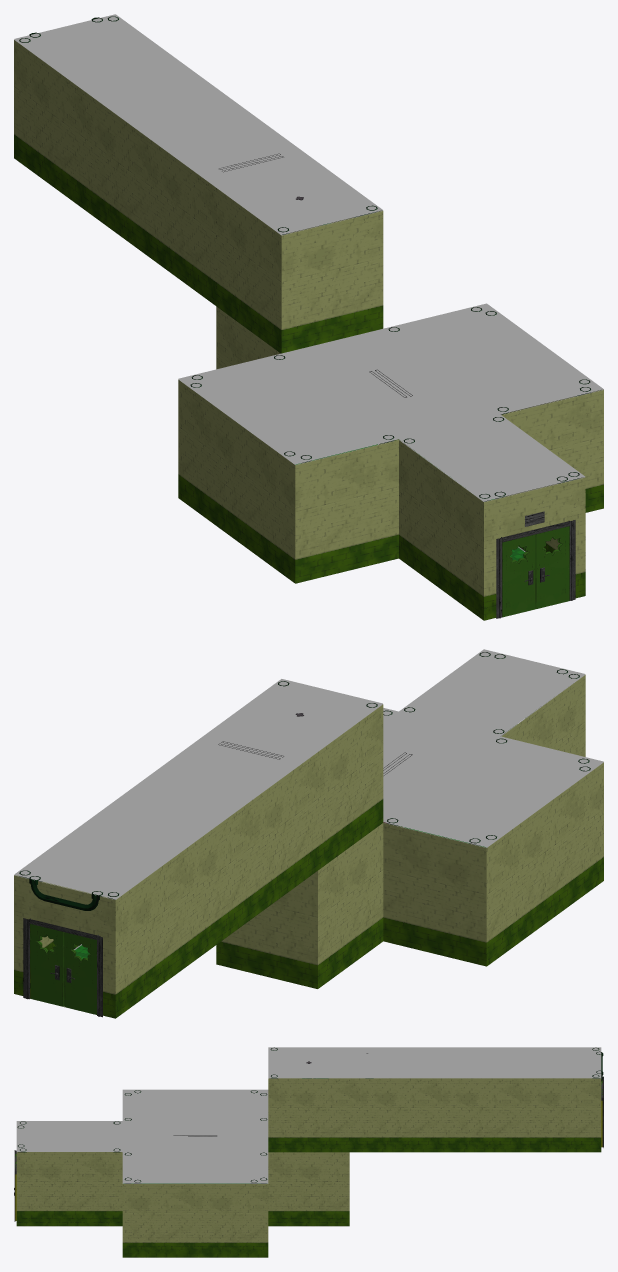
File: Level14_Tunnel2.fbx
3 views of the same model, one above another, from view 1: azimuth 30°, elevation 25°; view 2: azimuth 150°, elevation 25°; view 3: azimuth 270°, elevation 25° (orthographic). The views are drawn at different scales.
Visible parts, largest first — view 1: Wall, Roof, polySurface133, polySurface132, polySurface183, Border, Pipe; view 2: Wall, Roof, polySurface132, polySurface133, polySurface183, Pipe, Border; view 3: Wall, Roof, Pipe.
Boxes of the visible parts, <box> form: Wall: <box>14,40,603,620</box>; Roof: <box>14,14,603,501</box>; polySurface133: <box>502,534,535,617</box>; polySurface132: <box>536,526,569,608</box>; polySurface183: <box>496,520,575,618</box>; Border: <box>14,39,602,551</box>; Pipe: <box>19,16,590,501</box>; Wall: <box>14,674,603,1018</box>; Roof: <box>14,649,603,899</box>; polySurface132: <box>30,924,64,1006</box>; polySurface133: <box>64,932,96,1014</box>; polySurface183: <box>23,918,102,1017</box>; Pipe: <box>19,652,590,910</box>; Border: <box>14,675,603,949</box>; Wall: <box>16,1078,601,1257</box>; Roof: <box>16,1047,601,1183</box>; Pipe: <box>17,1047,603,1183</box>.
Size of the model in its own units: 28.24 by 20.85 by 75.15.
5 materials, 3 textured.
